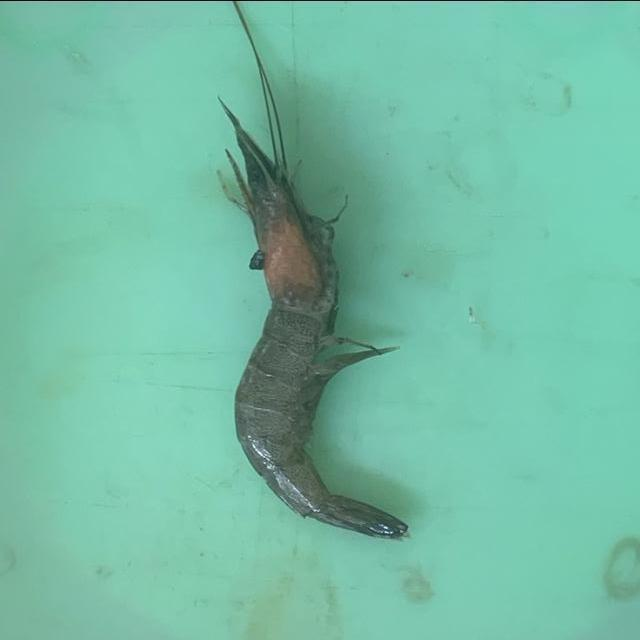shrimp: (222, 51, 407, 538)
